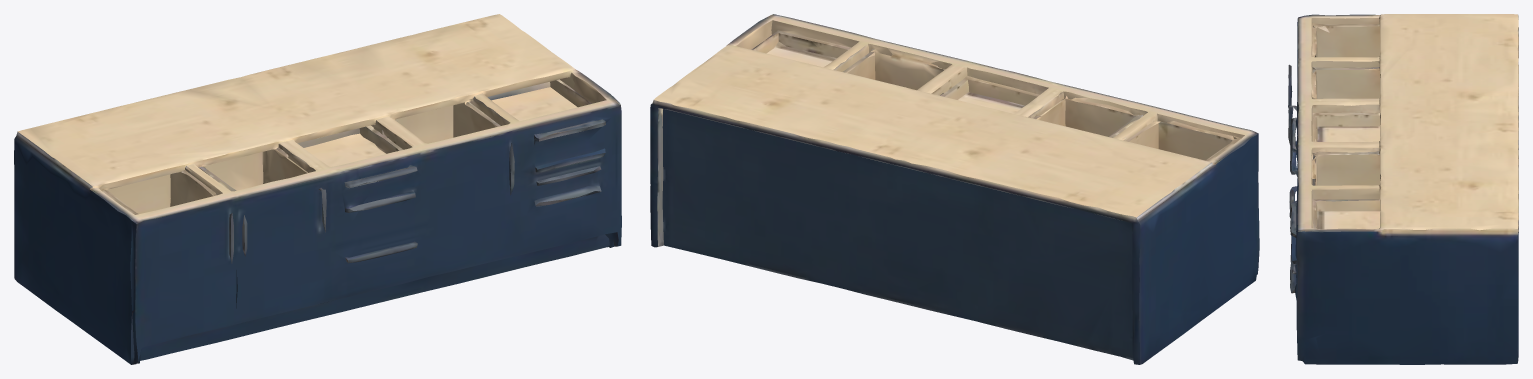
File: kitchen-run.glb
The picture shows the model from 3 angles, left to right: view 1: azimuth 30°, elevation 25°; view 2: azimuth 150°, elevation 25°; view 3: azimuth 270°, elevation 25°; orthographic projection. The views are drawn at different scales.
Visible parts, largest first — view 1: geometry_0; view 2: geometry_0; view 3: geometry_0.
Boxes of the visible parts, left/top/right/bottom form: geometry_0: left=14, top=14, right=621, bottom=364; geometry_0: left=650, top=14, right=1259, bottom=364; geometry_0: left=1288, top=14, right=1518, bottom=364.
Size of the model in its own units: 1.83 by 0.5308 by 0.818.
Materials: 1 (1 with a texture image).
